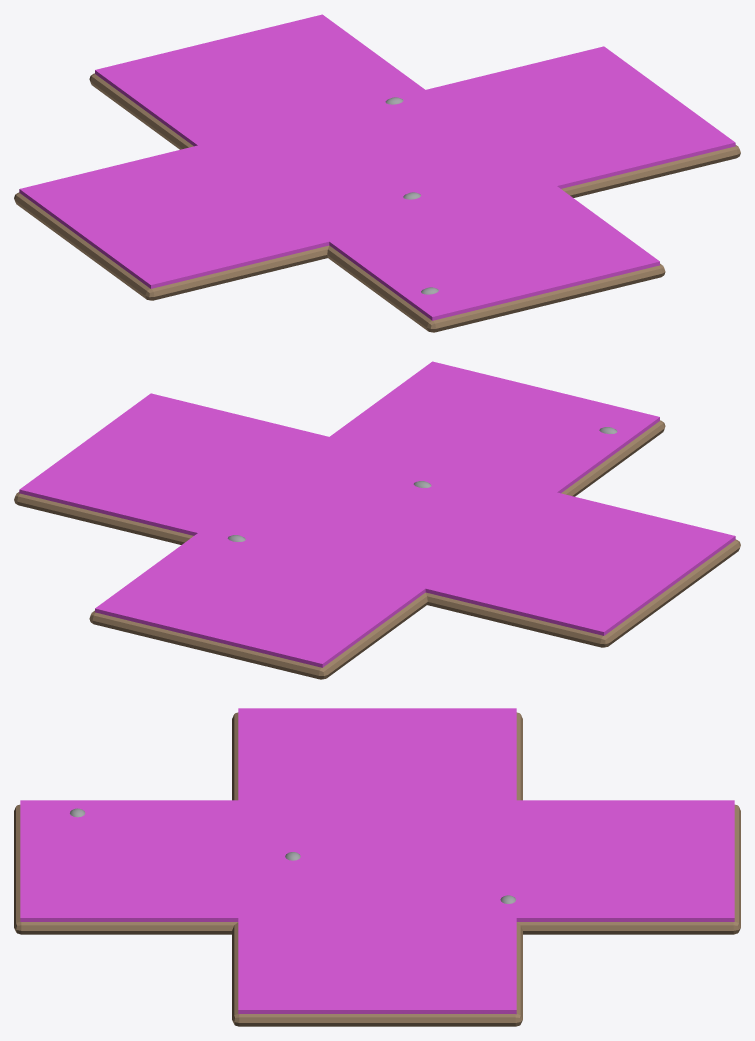
The picture shows the model from 3 angles, top to bottom: view 1: azimuth 30°, elevation 25°; view 2: azimuth 150°, elevation 25°; view 3: azimuth 270°, elevation 25°; orthographic projection. The views are drawn at different scales.
Visible parts, largest first — view 1: NAV_MASK_FOREST_PATH_DIRT_JUNCTION_EW, NAV_MASK_FOREST_PATH_DIRT_JUNCTION_NS, LOD1_FOREST_PATH_DIRT_JUNCTION_EW, LOD1_FOREST_PATH_DIRT_JUNCTION_NS; view 2: NAV_MASK_FOREST_PATH_DIRT_JUNCTION_NS, NAV_MASK_FOREST_PATH_DIRT_JUNCTION_EW, LOD1_FOREST_PATH_DIRT_JUNCTION_EW, LOD1_FOREST_PATH_DIRT_JUNCTION_NS; view 3: NAV_MASK_FOREST_PATH_DIRT_JUNCTION_NS, NAV_MASK_FOREST_PATH_DIRT_JUNCTION_EW, LOD1_FOREST_PATH_DIRT_JUNCTION_NS, LOD1_FOREST_PATH_DIRT_JUNCTION_EW.
Boxes of the visible parts, x1,y1,x2,y2 form: NAV_MASK_FOREST_PATH_DIRT_JUNCTION_EW: [19, 46, 735, 288]; NAV_MASK_FOREST_PATH_DIRT_JUNCTION_NS: [95, 14, 659, 320]; LOD1_FOREST_PATH_DIRT_JUNCTION_EW: [14, 145, 740, 300]; LOD1_FOREST_PATH_DIRT_JUNCTION_NS: [89, 73, 665, 332]; NAV_MASK_FOREST_PATH_DIRT_JUNCTION_NS: [95, 361, 659, 667]; NAV_MASK_FOREST_PATH_DIRT_JUNCTION_EW: [19, 393, 735, 635]; LOD1_FOREST_PATH_DIRT_JUNCTION_EW: [14, 492, 740, 647]; LOD1_FOREST_PATH_DIRT_JUNCTION_NS: [89, 420, 665, 679]; NAV_MASK_FOREST_PATH_DIRT_JUNCTION_NS: [20, 800, 734, 921]; NAV_MASK_FOREST_PATH_DIRT_JUNCTION_EW: [238, 708, 516, 1014]; LOD1_FOREST_PATH_DIRT_JUNCTION_NS: [14, 804, 740, 934]; LOD1_FOREST_PATH_DIRT_JUNCTION_EW: [232, 712, 522, 1026].
Size of what is drawn, in the model's own units: 8 by 0.24 by 8.
